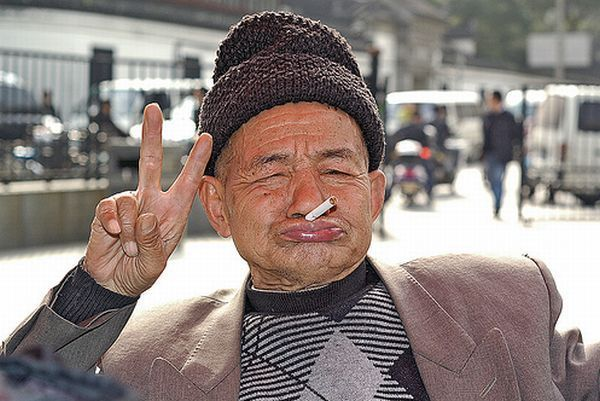cigarette: (300, 192, 341, 228)
